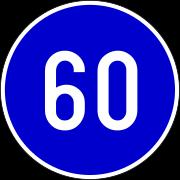Speed Limit -60-: (13, 18, 158, 166)
